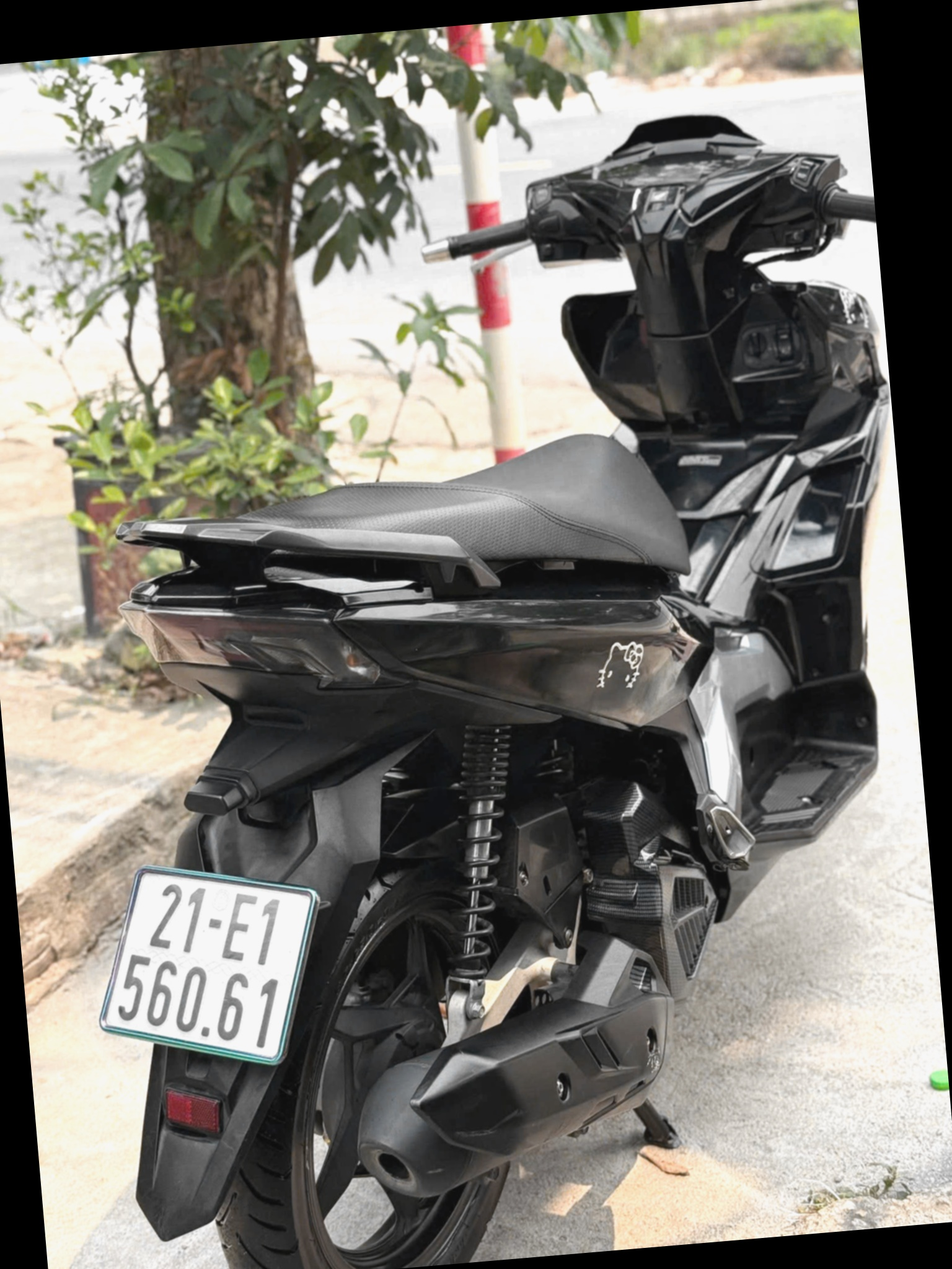Bien-so: (85, 851, 317, 1059)
